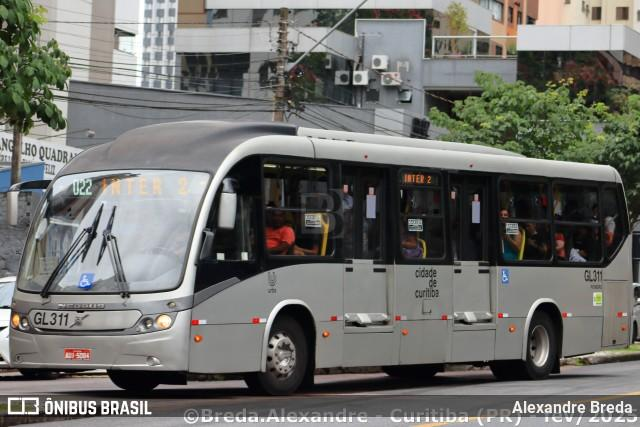INTER2: (99, 176, 194, 200)
